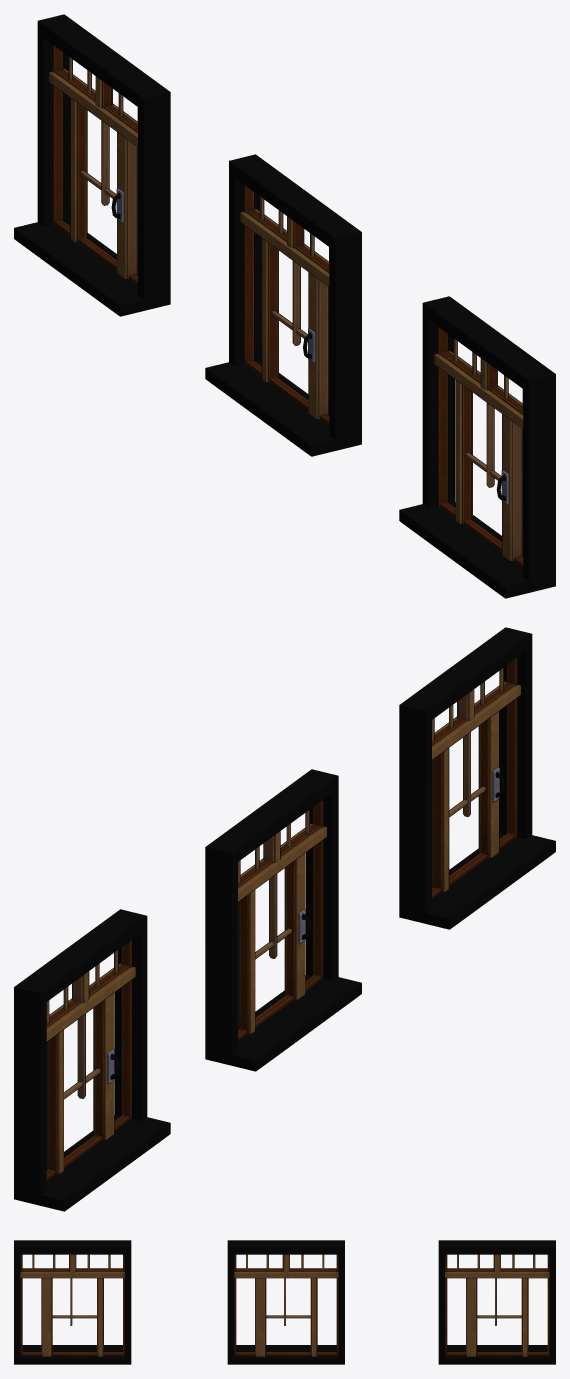
Rendered from Winodws.fbx.
3 renders of one model, top to bottom at view 1: azimuth 30°, elevation 25°; view 2: azimuth 150°, elevation 25°; view 3: azimuth 270°, elevation 25°, orthographic. The views are drawn at different scales.
Visible parts, largest first — view 1: Winodws; view 2: Winodws; view 3: Winodws.
Boxes of the visible parts, bbox=[...] form: Winodws: bbox=[14, 14, 555, 598]; Winodws: bbox=[14, 627, 555, 1211]; Winodws: bbox=[14, 1240, 555, 1364].
Size of the model in its own units: 50.62 by 203 by 851.
